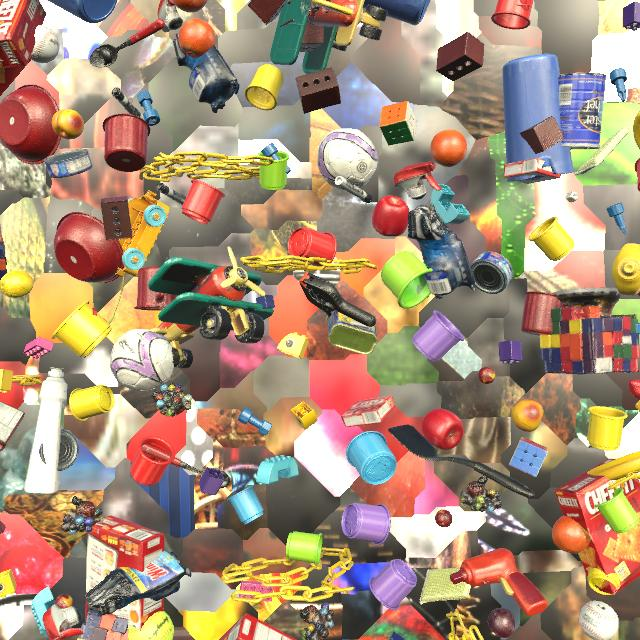ycb_002_master_chef_can: (558, 72, 607, 150)
ycb_003_cracker_box: (554, 458, 640, 595), (85, 515, 165, 631), (0, 0, 46, 68), (219, 613, 296, 640), (0, 59, 31, 96)
ycb_006_mustard_bottle: (612, 243, 640, 296), (633, 111, 640, 149), (635, 400, 640, 412)
ycb_007_tuna_fish_can: (470, 251, 514, 294), (39, 429, 79, 471), (44, 149, 92, 178)
ycb_008_pudding_box: (0, 401, 25, 452)
ycb_009_gelatin_box: (341, 395, 396, 427), (504, 158, 561, 184)
ycb_010_potted_meat_can: (326, 310, 377, 355)
ycb_011_banana: (587, 451, 640, 480)
ycb_012_strawberry: (628, 379, 640, 400)
ycb_013_apple: (421, 408, 464, 450), (372, 196, 409, 237)
ycb_014_lemon: (0, 270, 34, 298)
ycb_015_peach: (511, 399, 543, 432), (52, 109, 84, 139)
ycb_017_orange: (179, 18, 215, 58), (430, 130, 467, 167), (552, 516, 586, 554), (172, 0, 207, 13)
ycb_018_plum: (488, 608, 515, 638)
